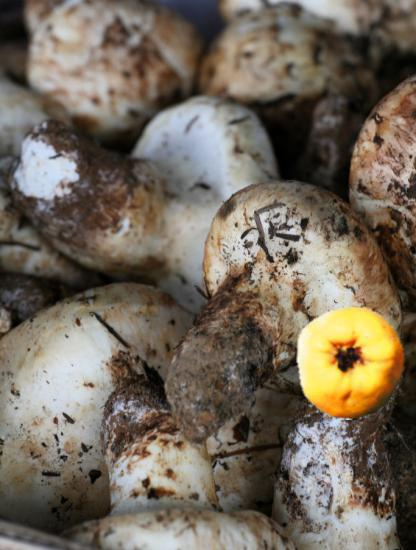Quince: (294, 304, 411, 421)
